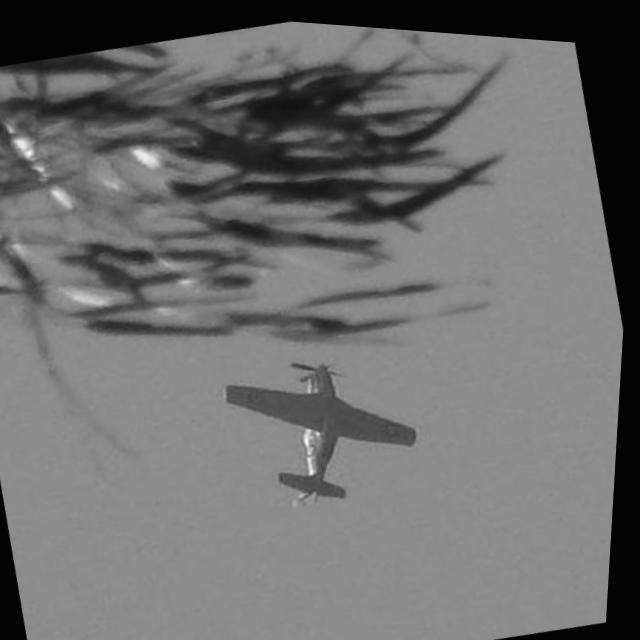aeroplane: (216, 328, 441, 527)
